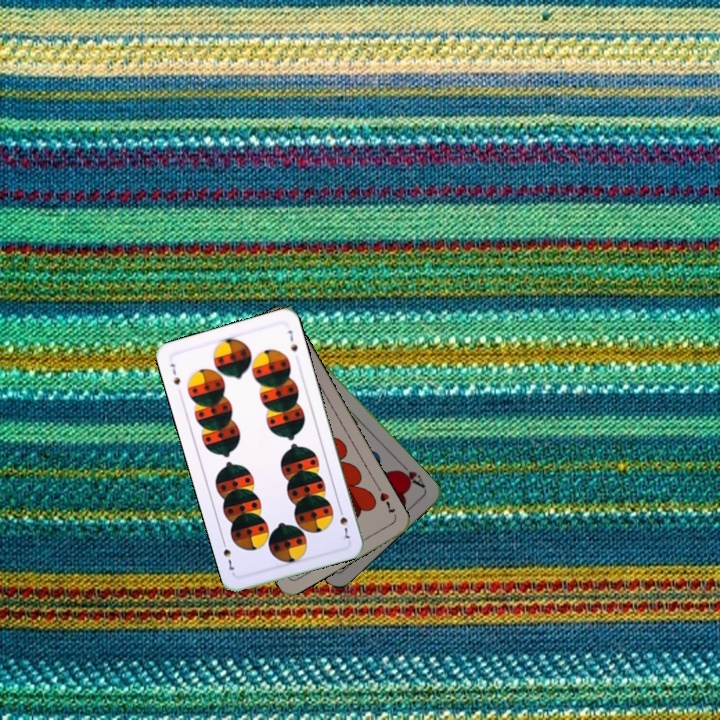H7: (376, 488, 398, 517)
HA: (393, 459, 428, 491)
S7: (335, 503, 353, 544), (166, 359, 183, 387)
